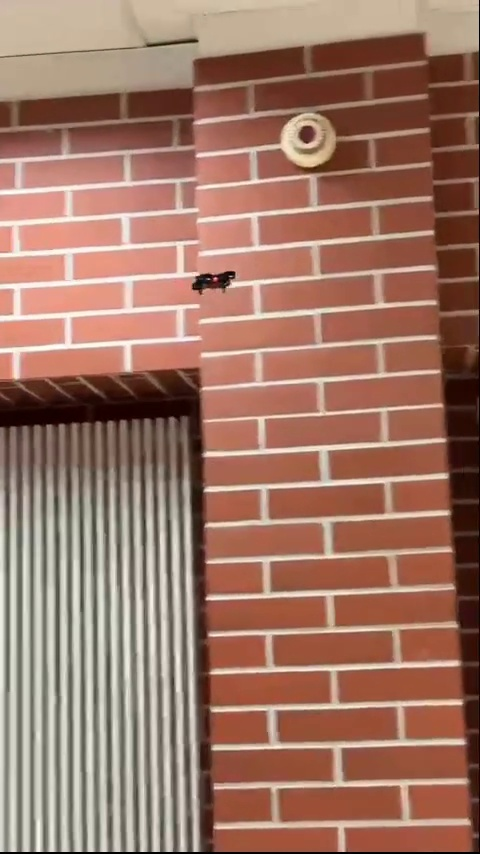drone: (189, 272, 245, 292)
